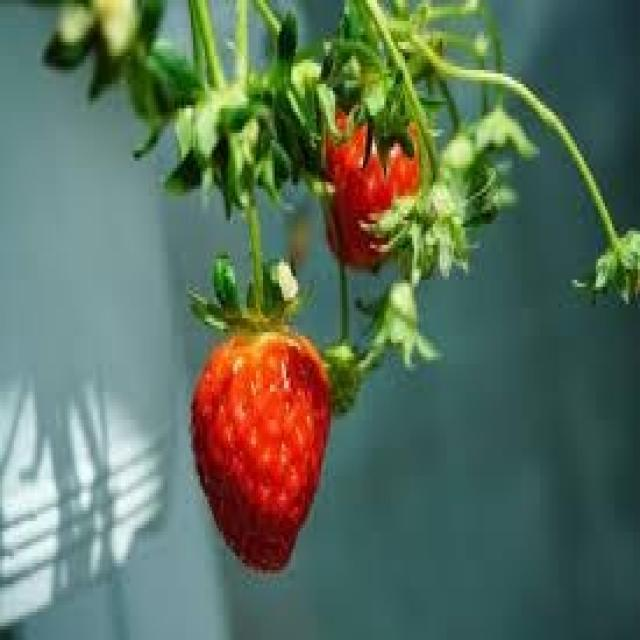mature: (192, 330, 330, 570)
